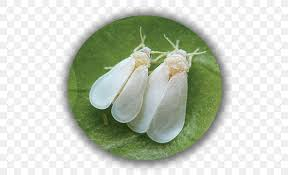Tobacco Whitefly: (134, 43, 201, 145), (88, 35, 150, 129)
